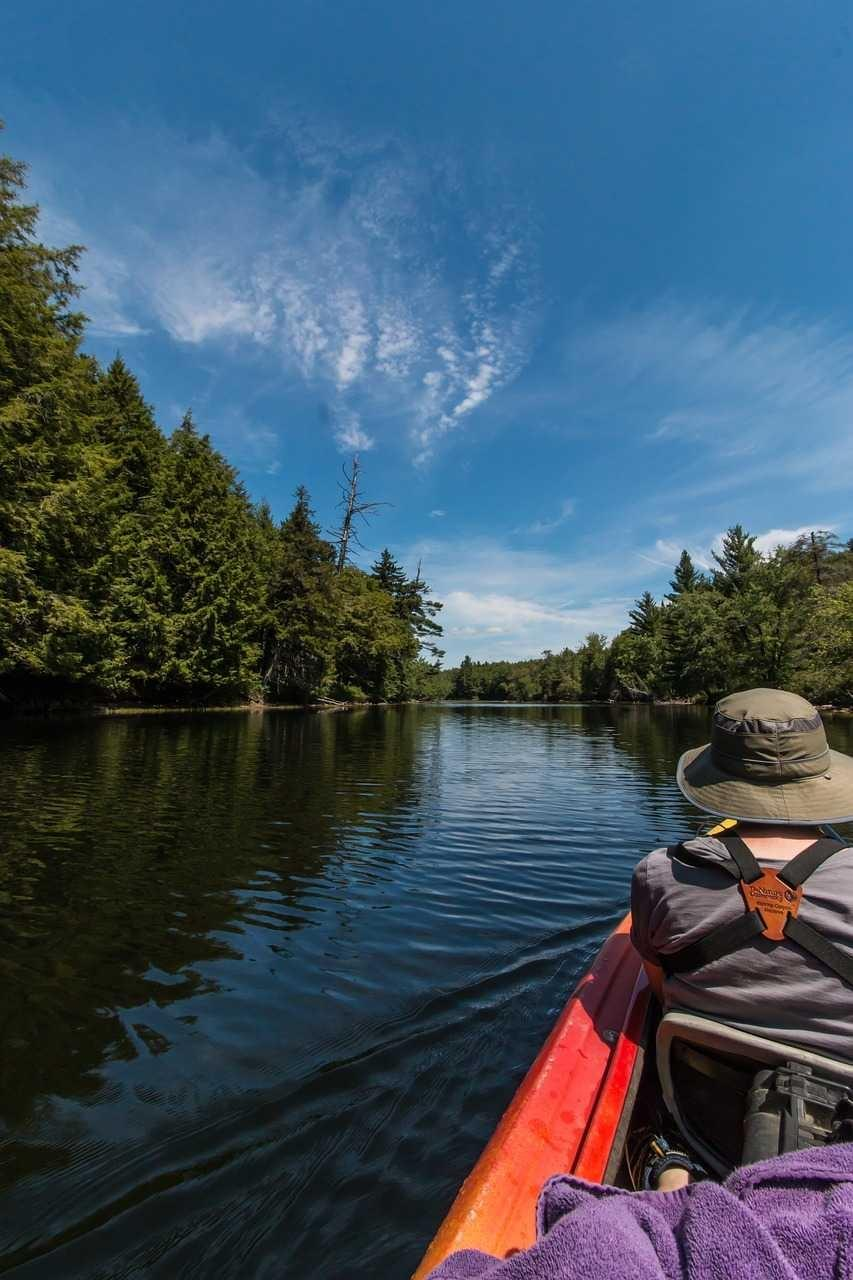kayak: (412, 909, 850, 1278)
